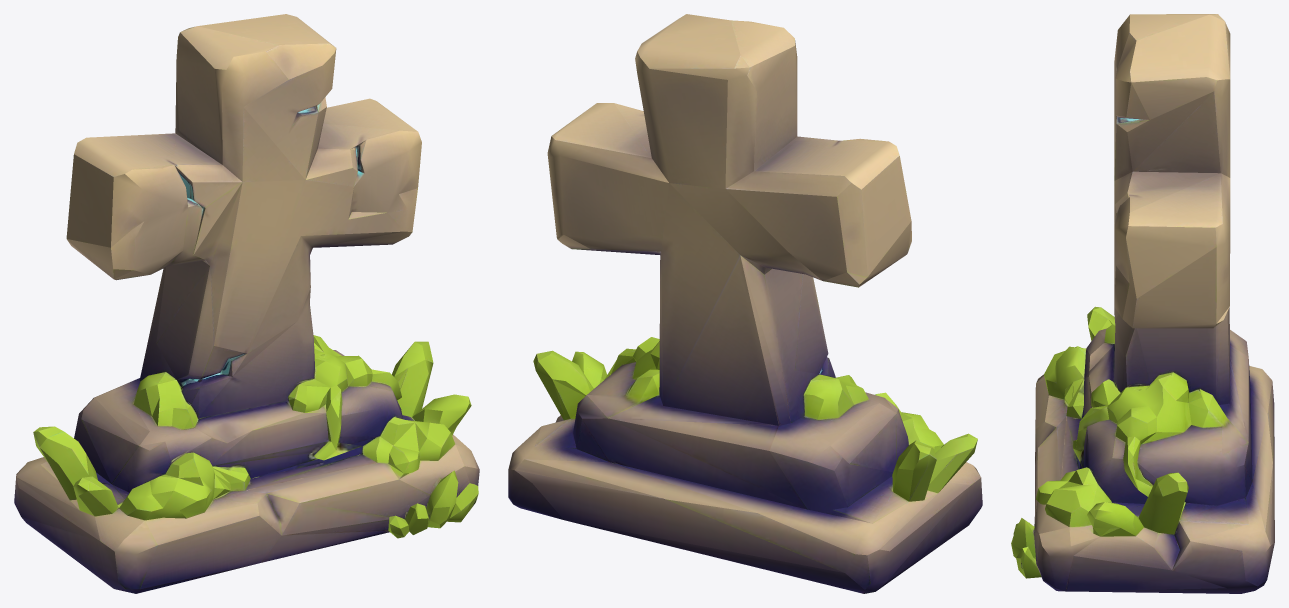
File: gravestone_cross.glb
3 renders of one model, left to right at view 1: azimuth 30°, elevation 25°; view 2: azimuth 150°, elevation 25°; view 3: azimuth 270°, elevation 25°, orthographic. The views are drawn at different scales.
Size of the model in its own units: 1.65 by 1.9 by 0.9459.
Materials: 1 (1 with a texture image).
